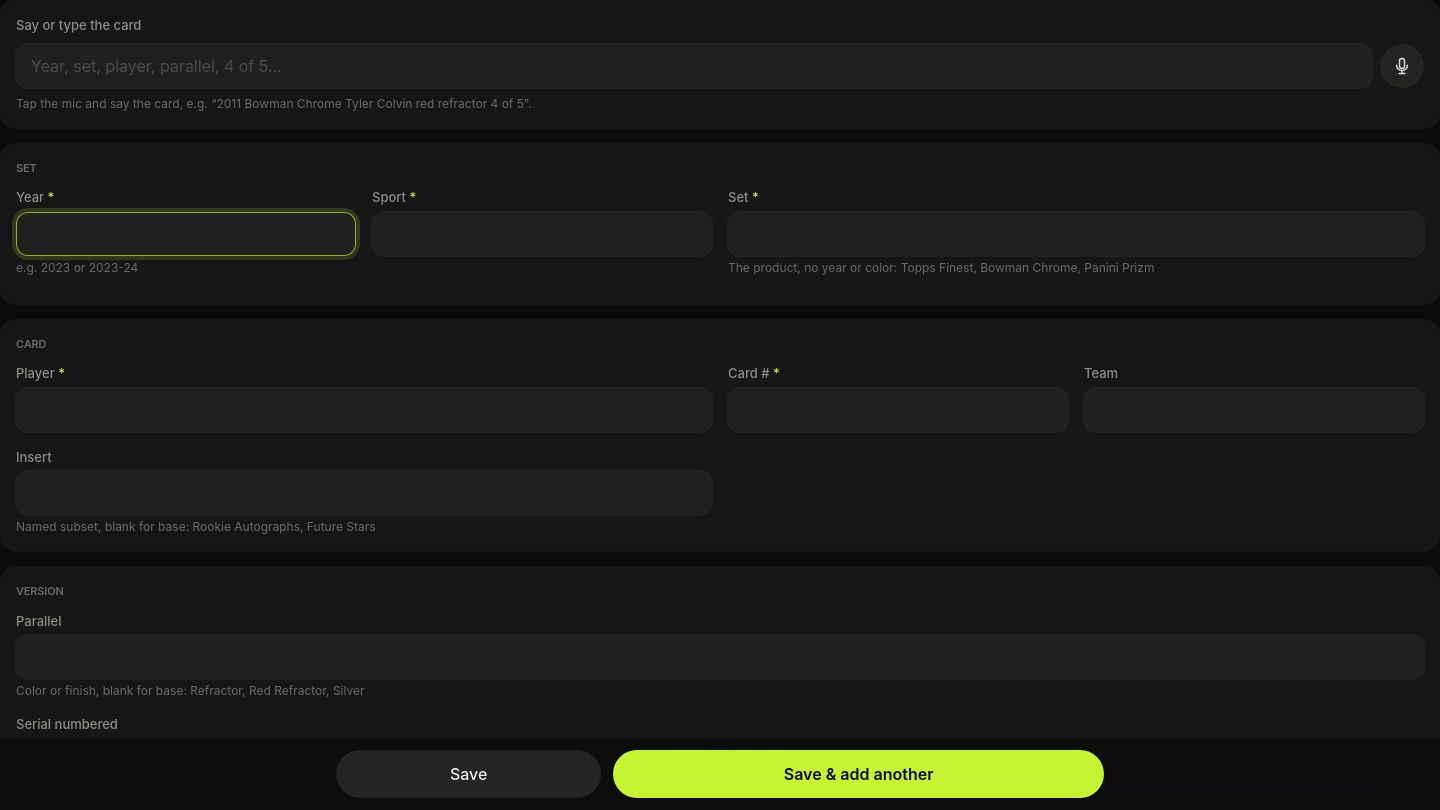
it: CardForm › blocks saving until required fields are filled
Click the button "Save & add another".
click(859, 774)  # box top-left (613, 750), bottom-right (1104, 798)
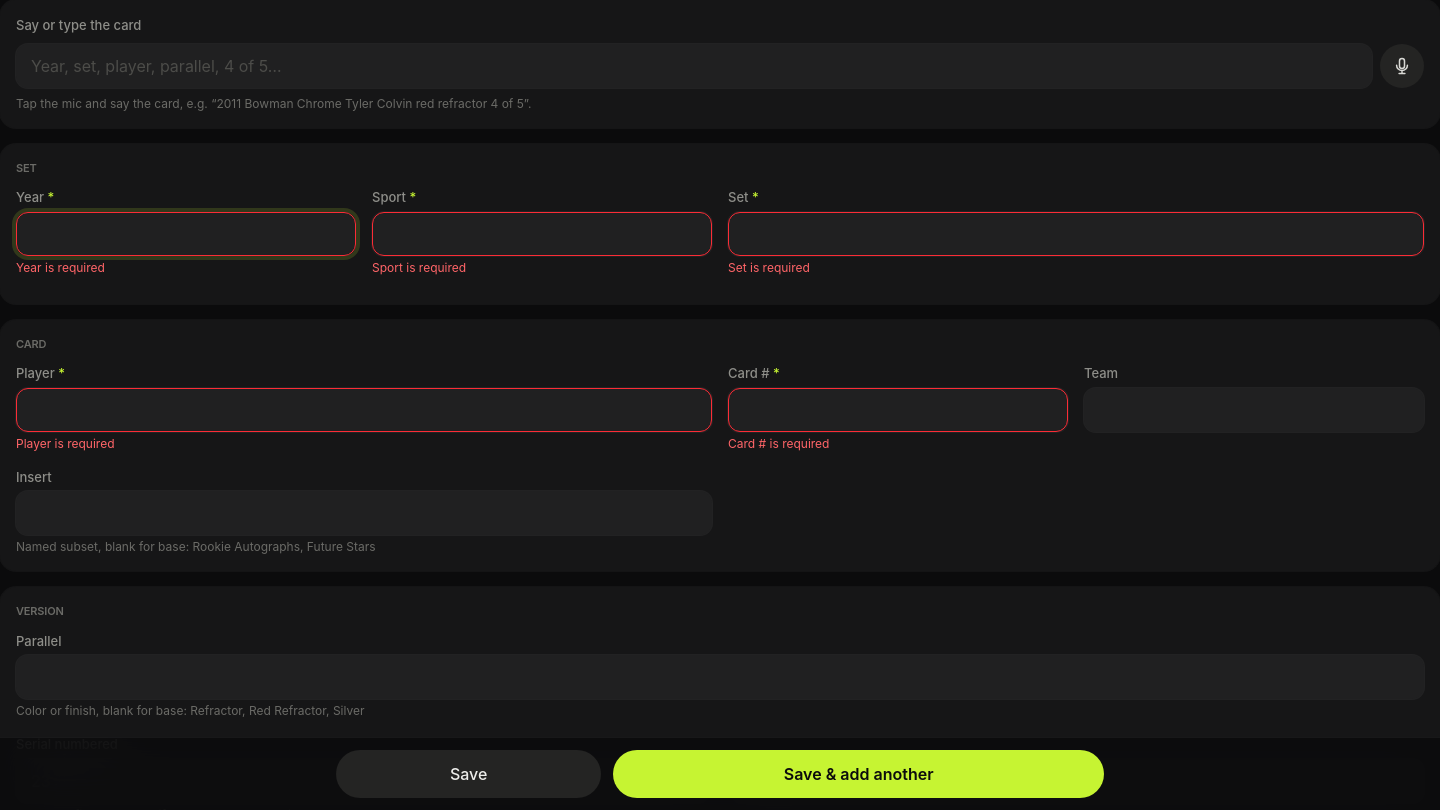
Result: the text "Player is required" is shown at top-left (16, 436), bottom-right (114, 450)
Result: the text "Card # is required" is shown at top-left (728, 436), bottom-right (830, 450)
